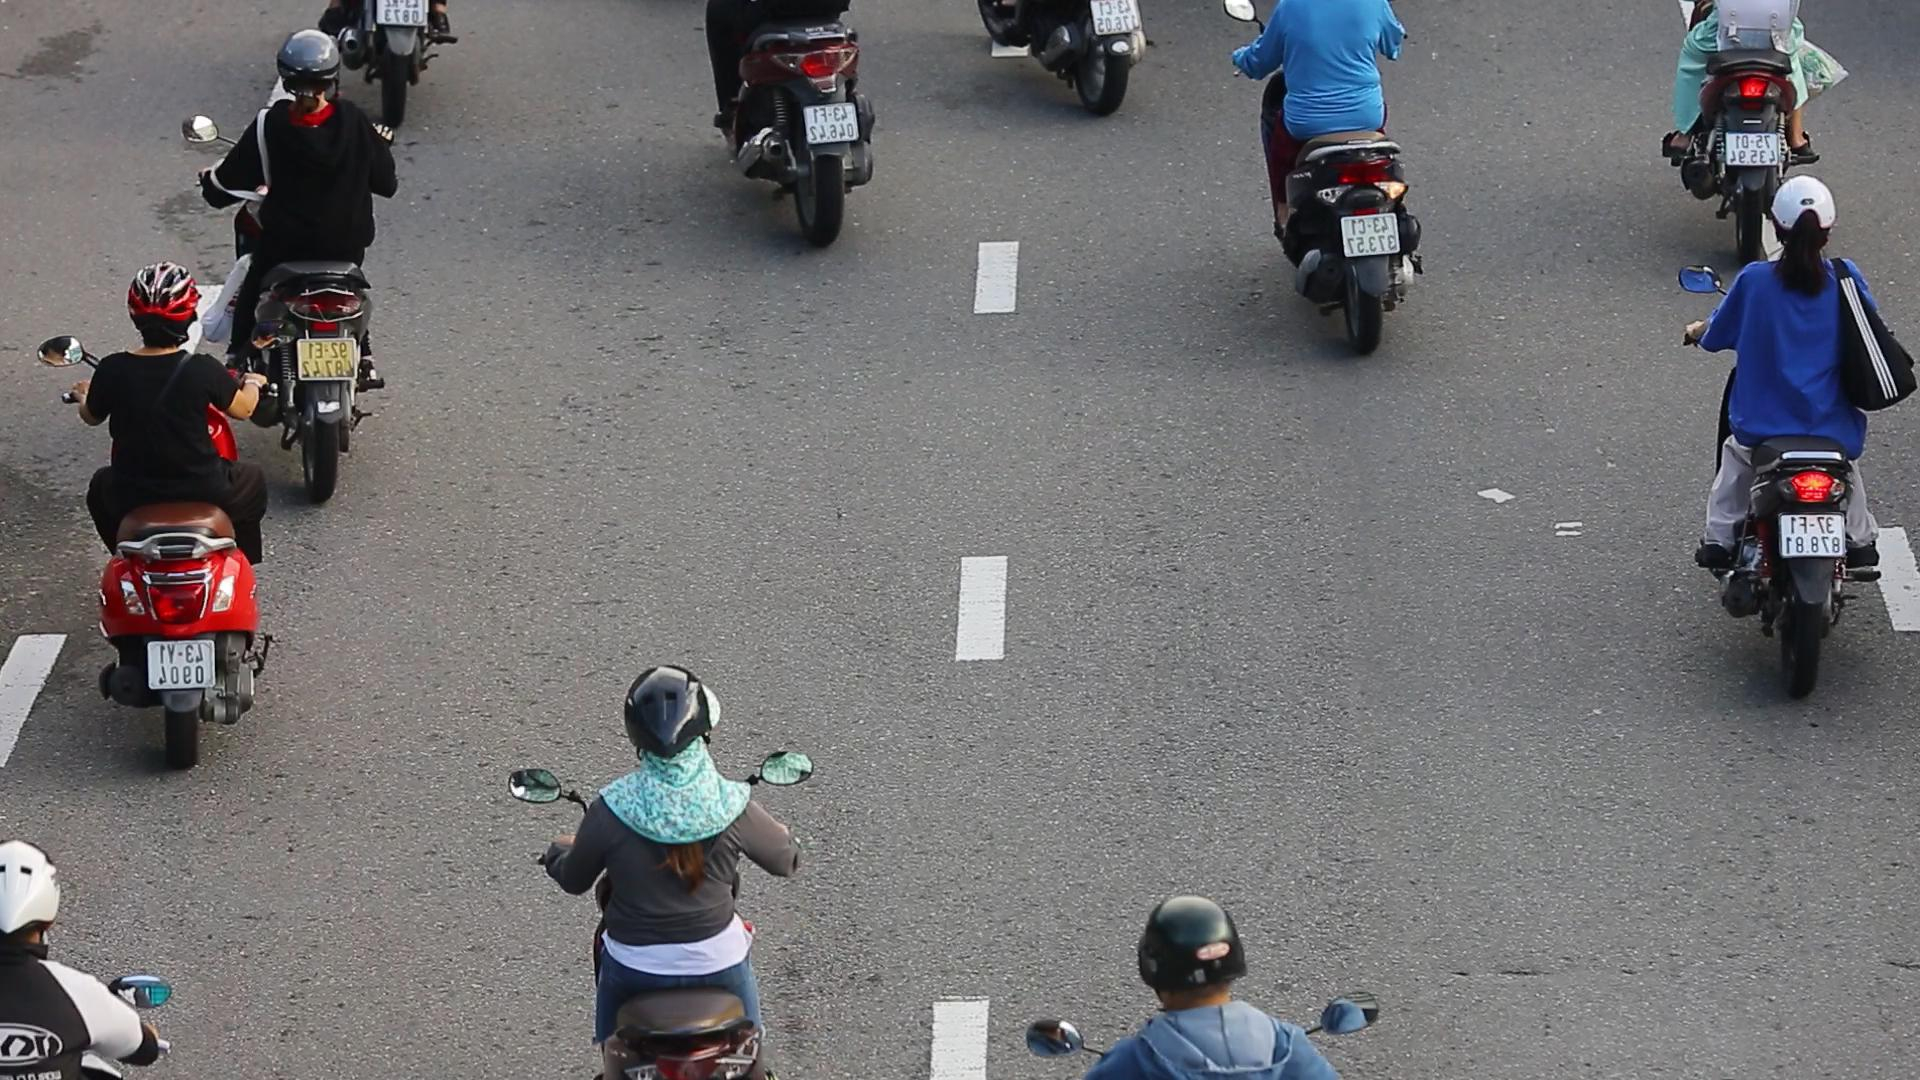motobike: (1664, 174, 1907, 708), (40, 265, 245, 762), (236, 36, 400, 475)
